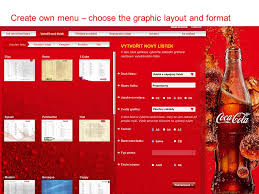coke: (210, 29, 259, 192)
